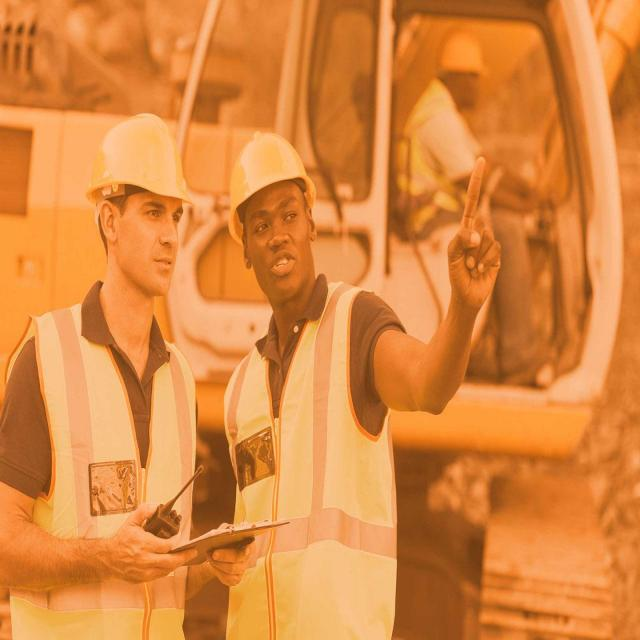reflective_jacket: (0, 296, 202, 634), (224, 280, 396, 638)
safety_helmet: (82, 107, 198, 216), (223, 122, 320, 234)
